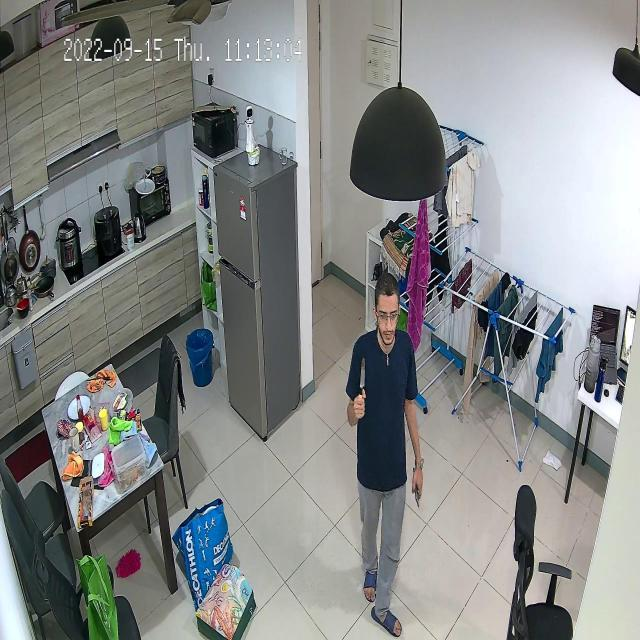Knife: (351, 348, 377, 401)
